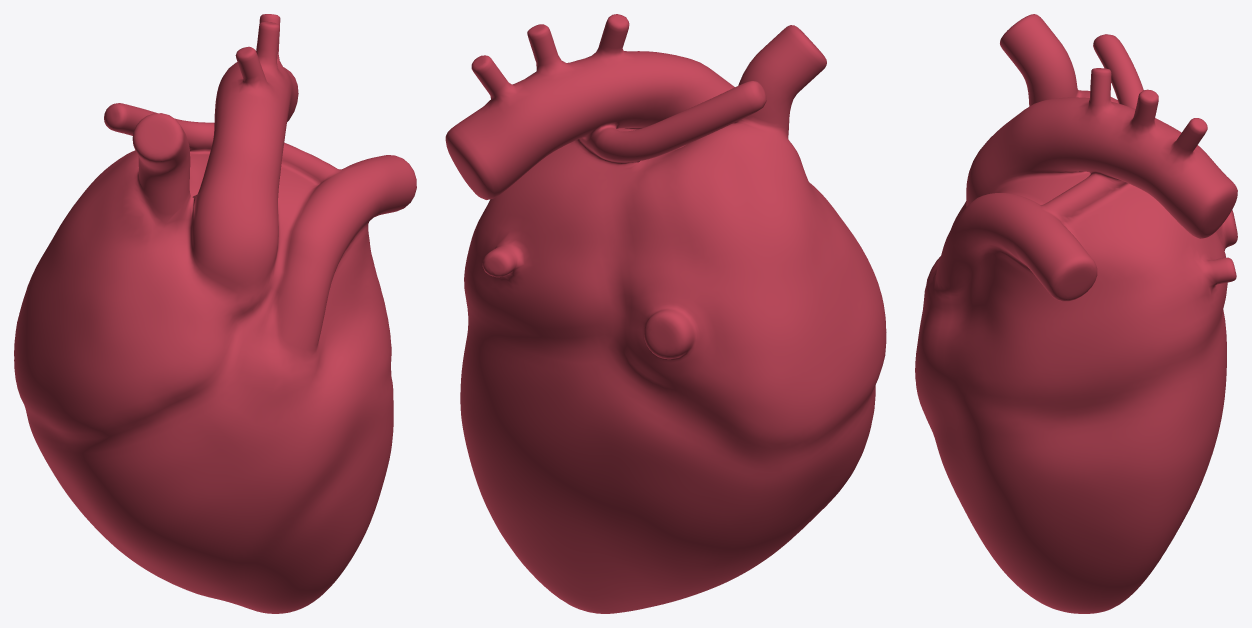
File: heart.glb
3 views of the same model, side by side, from view 1: azimuth 30°, elevation 25°; view 2: azimuth 150°, elevation 25°; view 3: azimuth 270°, elevation 25° (orthographic). The views are drawn at different scales.
Visible parts, largest first — view 1: hart:ZBrush_defualt_group; view 2: hart:ZBrush_defualt_group; view 3: hart:ZBrush_defualt_group.
Part boxes in pixels (box(x1,y1,x2,y2)): hart:ZBrush_defualt_group: box(14, 14, 416, 613); hart:ZBrush_defualt_group: box(445, 14, 886, 613); hart:ZBrush_defualt_group: box(915, 14, 1237, 613).
Size of the model in its own units: 1.08 by 1.6 by 0.8801.
